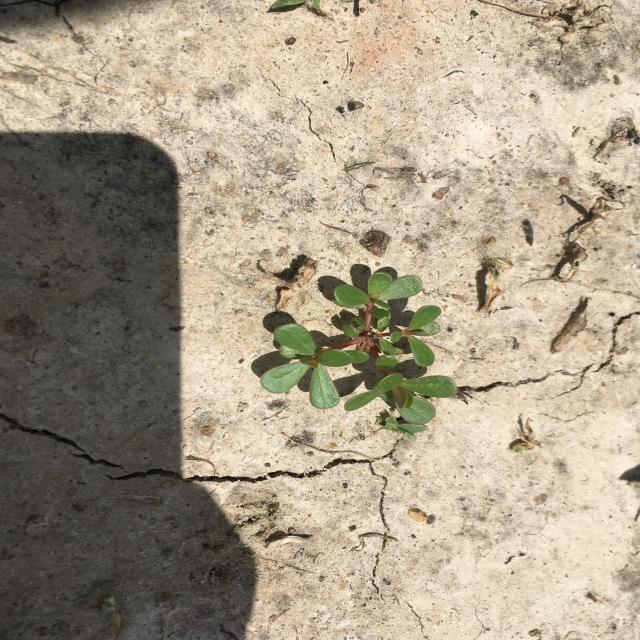Purslane: (260, 272, 458, 426)
